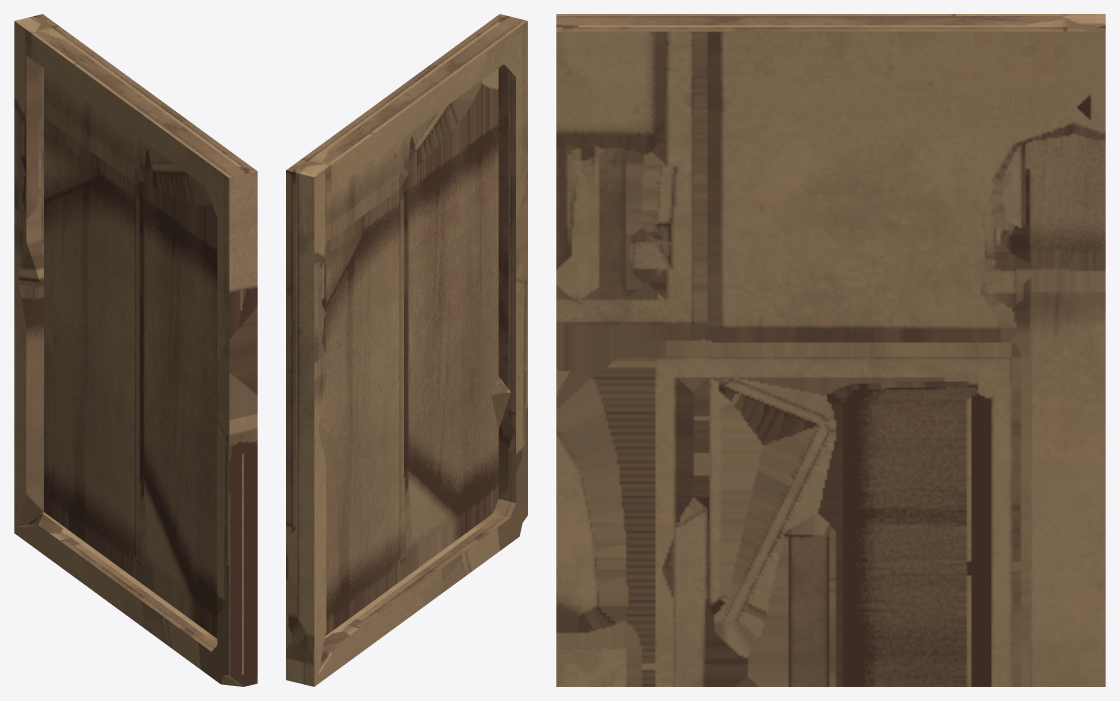
Rendered from Puzzle 3 Tablet .fbx.
3 renders of one model, left to right at view 1: azimuth 30°, elevation 25°; view 2: azimuth 150°, elevation 25°; view 3: azimuth 270°, elevation 25°, orthographic. The views are drawn at different scales.
Parts seen in each view (by area): view 1: Cube.004; view 2: Cube.004; view 3: Cube.004.
Part boxes in pixels (left/top/right/bottom): Cube.004: left=14, top=14, right=257, bottom=686; Cube.004: left=286, top=14, right=527, bottom=686; Cube.004: left=556, top=14, right=1105, bottom=686.
Size of the model in its own units: 41.84 by 719 by 546.
Materials: 1 (1 with a texture image).
